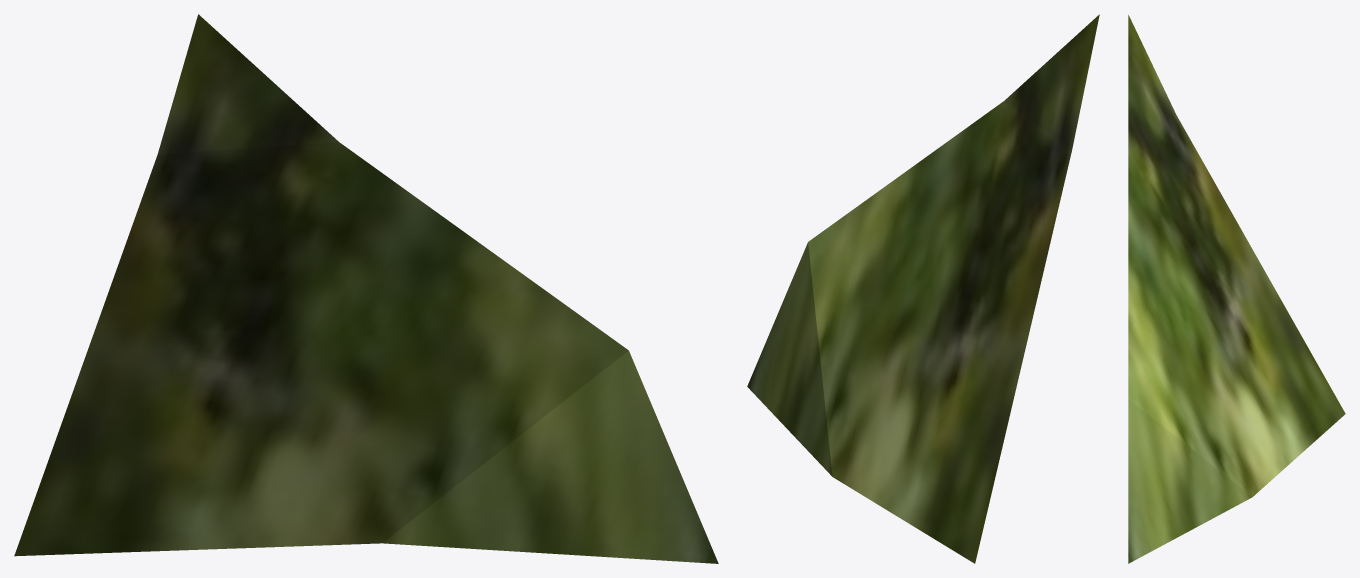
The picture shows the model from 3 angles, left to right: view 1: azimuth 30°, elevation 25°; view 2: azimuth 150°, elevation 25°; view 3: azimuth 270°, elevation 25°; orthographic projection. The views are drawn at different scales.
Size of the model in its own units: 0.6935 by 0.8618 by 0.4248.
Materials: 1 (1 with a texture image).
